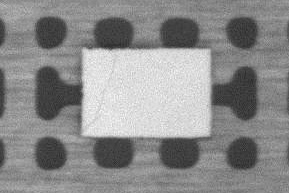DIE_CRACK: (82, 56, 115, 132)
